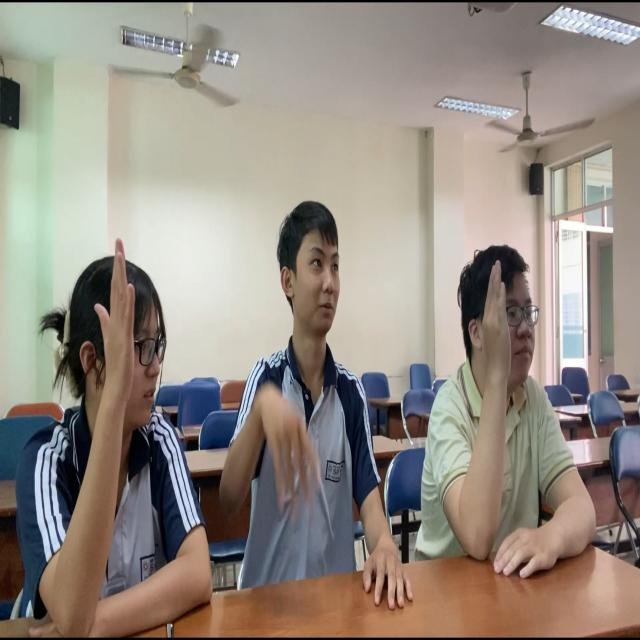raise_hand: (30, 230, 212, 640), (436, 235, 598, 603)
